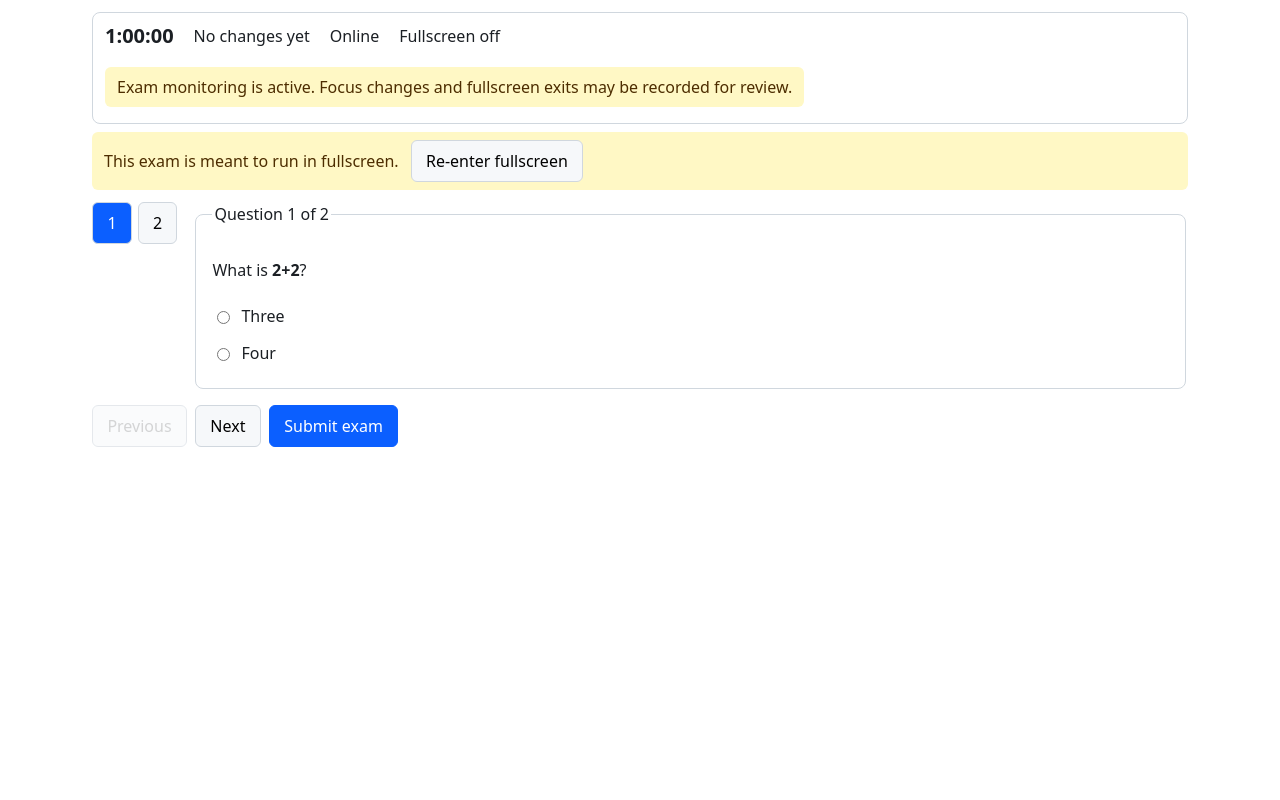
Test case: B-17 web exam shell › submit failure shows a calm error and keeps the exam open
The image size is (1280, 800).
Click the button "Submit exam". click: (334, 426)
box: x1=269 y1=405 x2=398 y2=447
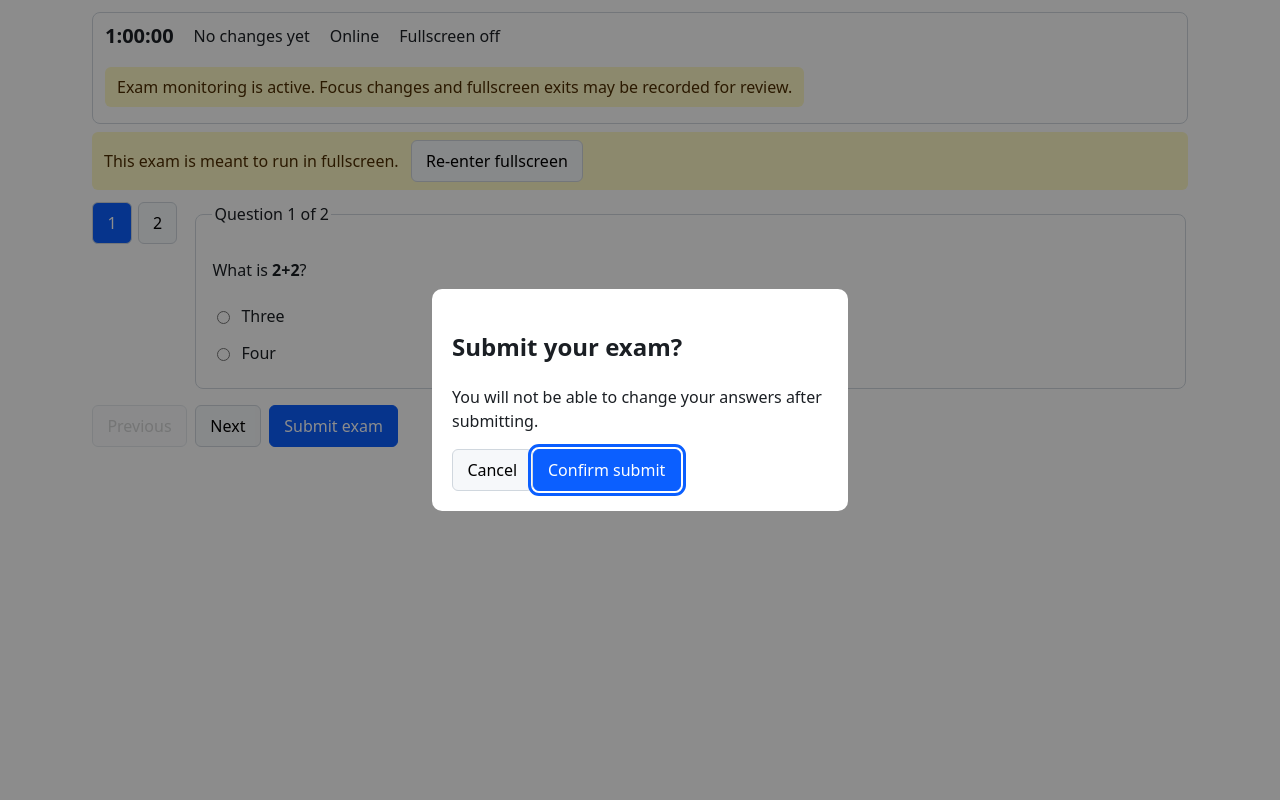
Click the button "Confirm submit". click: (607, 470)
box: x1=533 y1=449 x2=681 y2=491
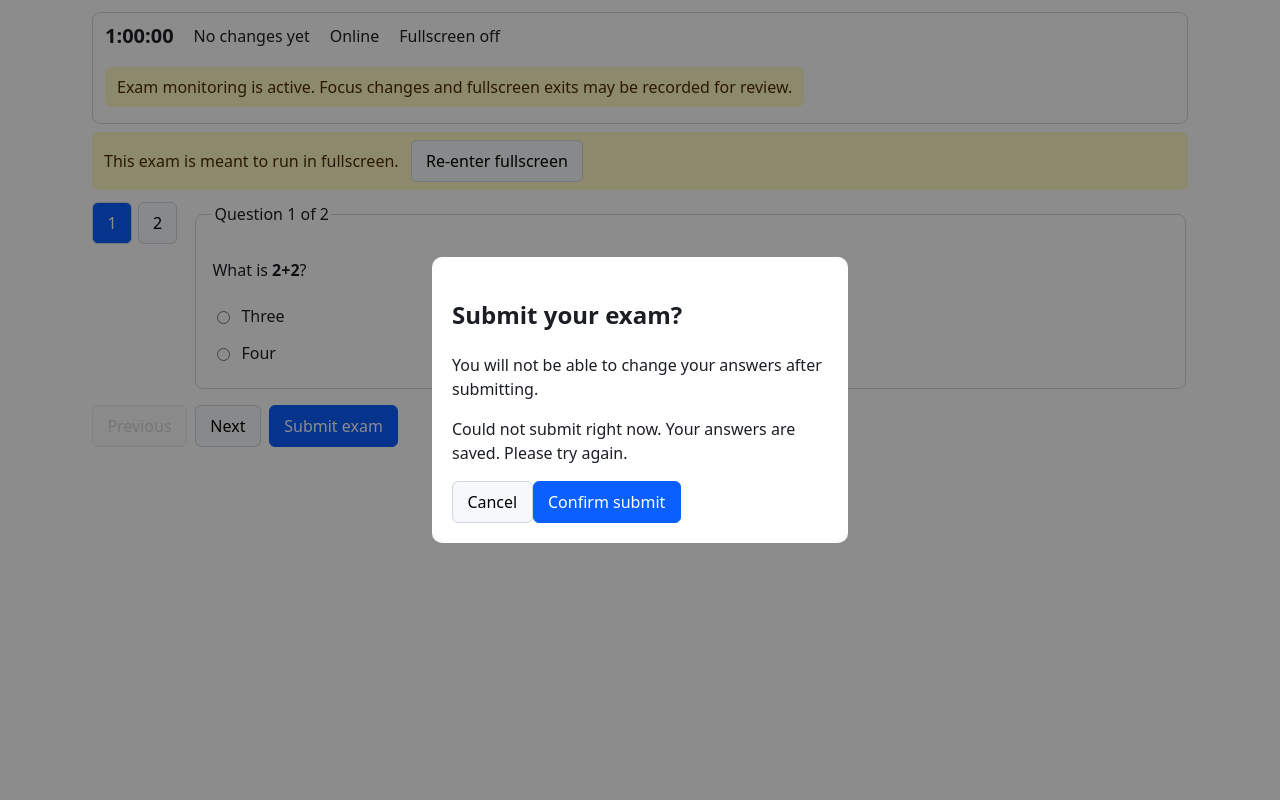
Expected: the text "Could not submit right now. Your answers are saved. Please try again." is shown, x1=452 y1=417 x2=828 y2=465
